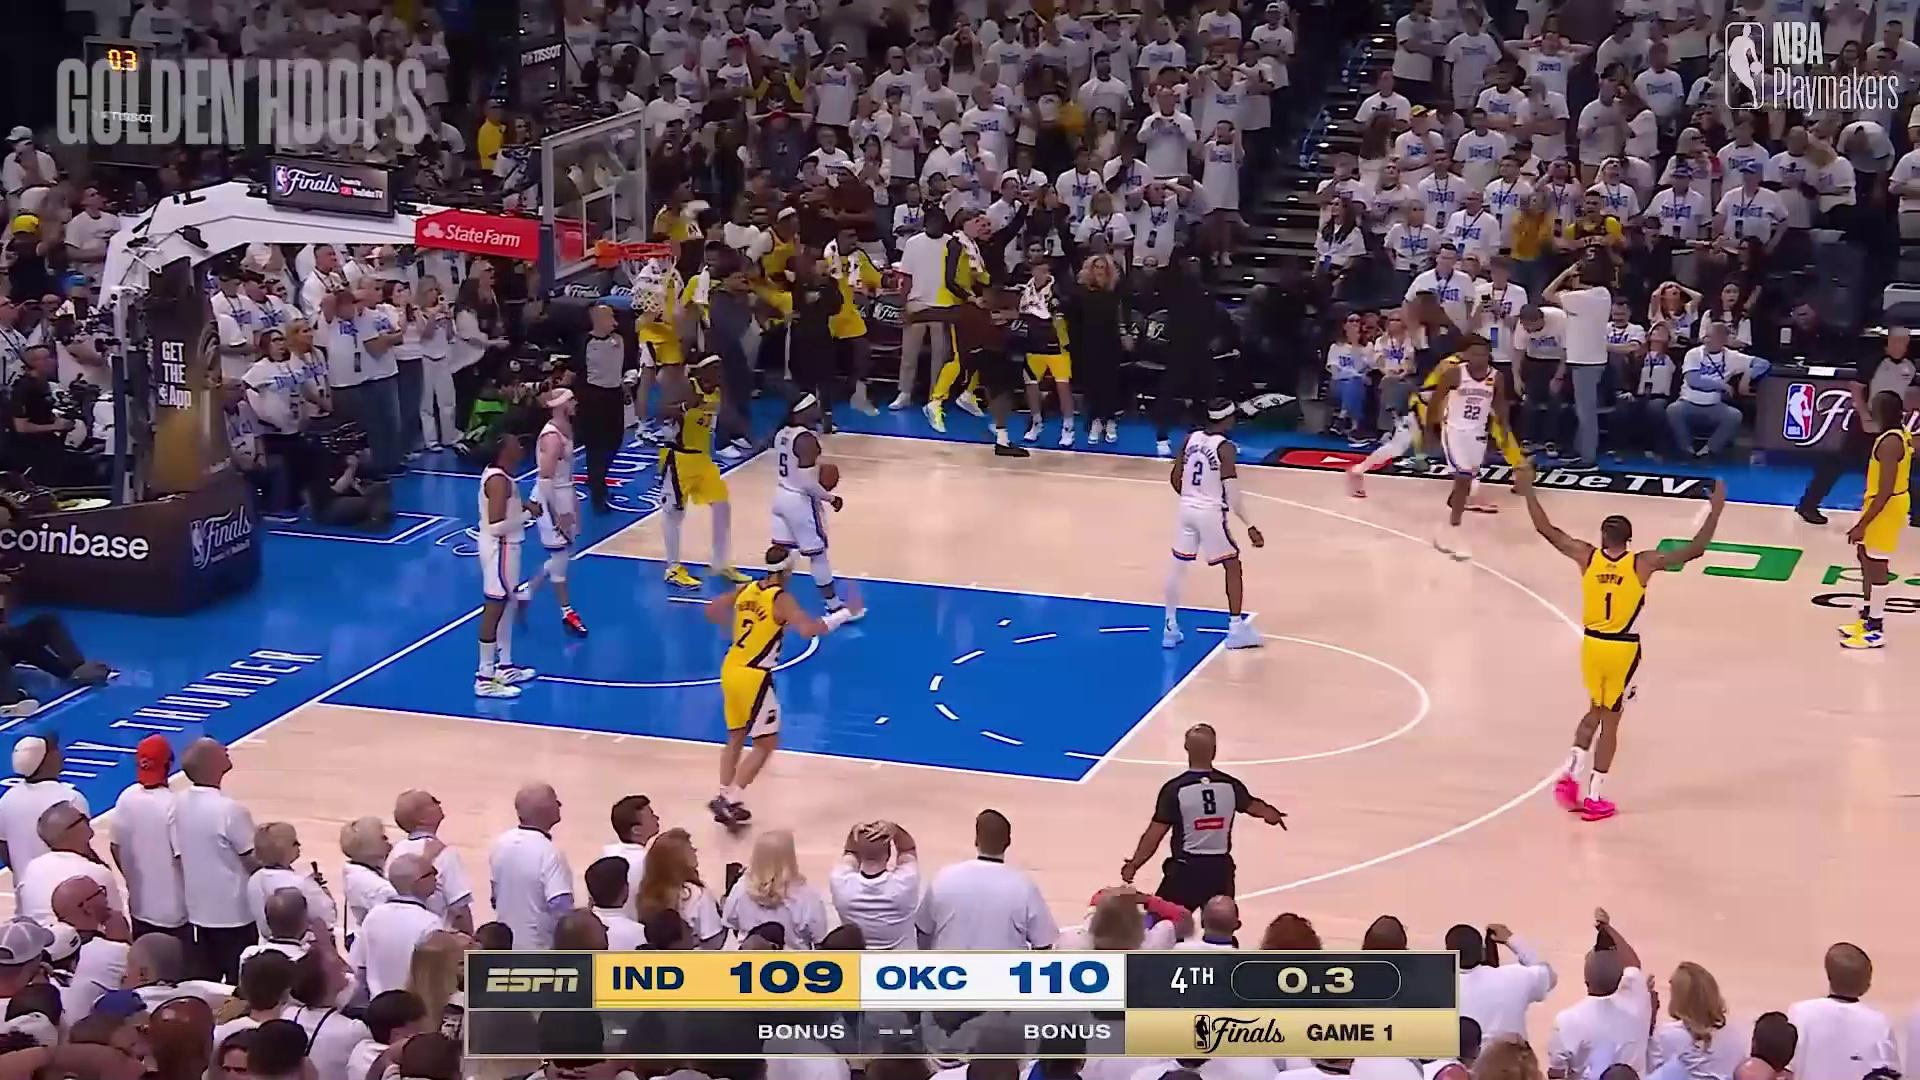ball: (824, 460, 841, 493)
hoop: (616, 232, 678, 315)
